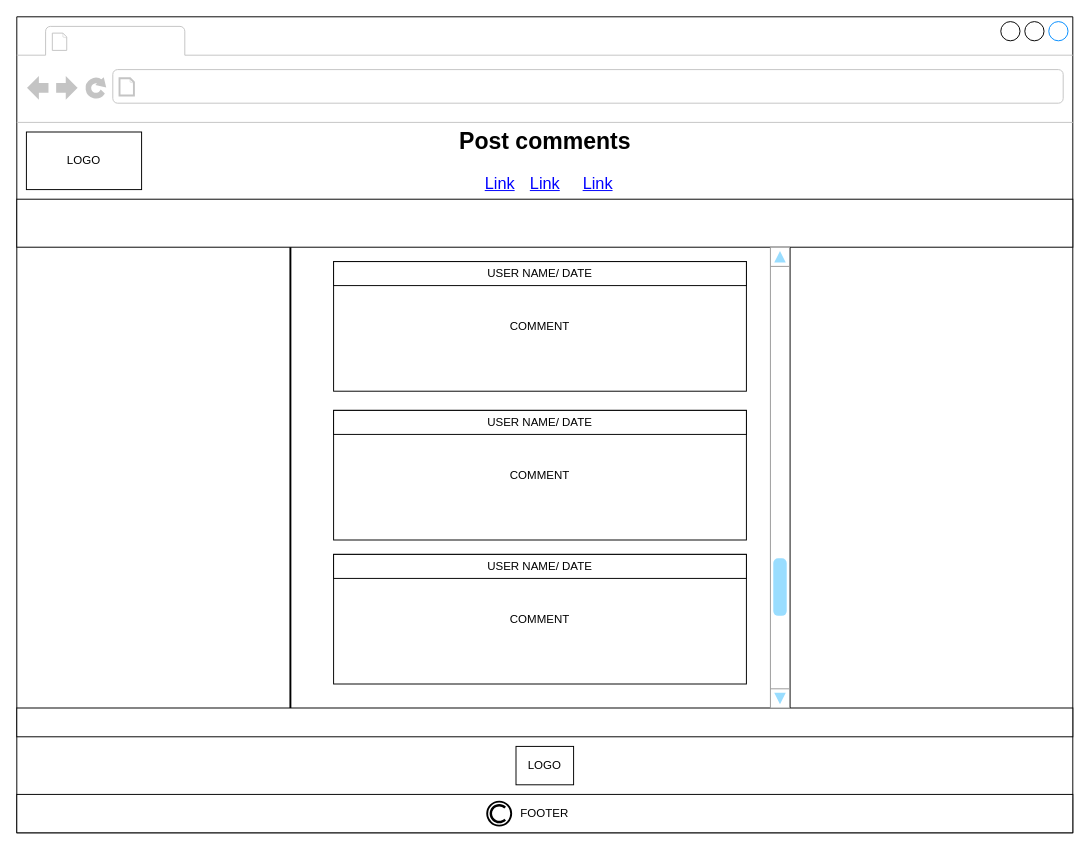
The diagram is 1090 pixels wide and 850 high, and some of its shapes have lost their labels. Here are the shapes that lost their labels. From the top down, the centre of each, then its label:
pixel 126 40: Page 1
pixel 261 86: https://www.draw.io
pixel 544 222: BANNER/ COOL PIC
pixel 544 722: DISCLAIMER
